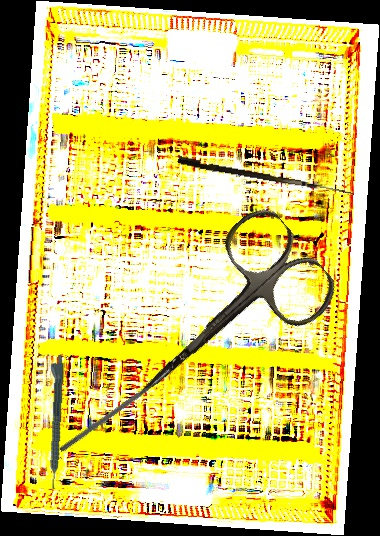Handpiece: (43, 354, 65, 489)
Hook Surgical: (177, 156, 356, 195)
Iris Scissors: (93, 199, 346, 443)
Pusher: (58, 373, 170, 454)
